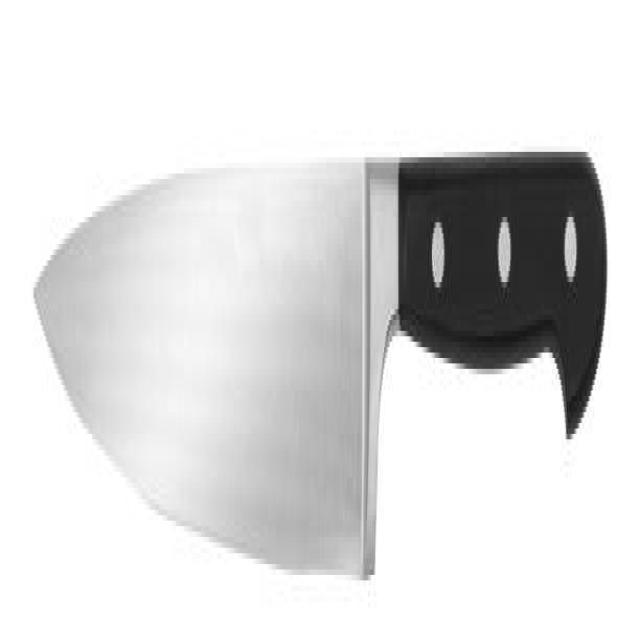knife: (31, 128, 609, 605)
